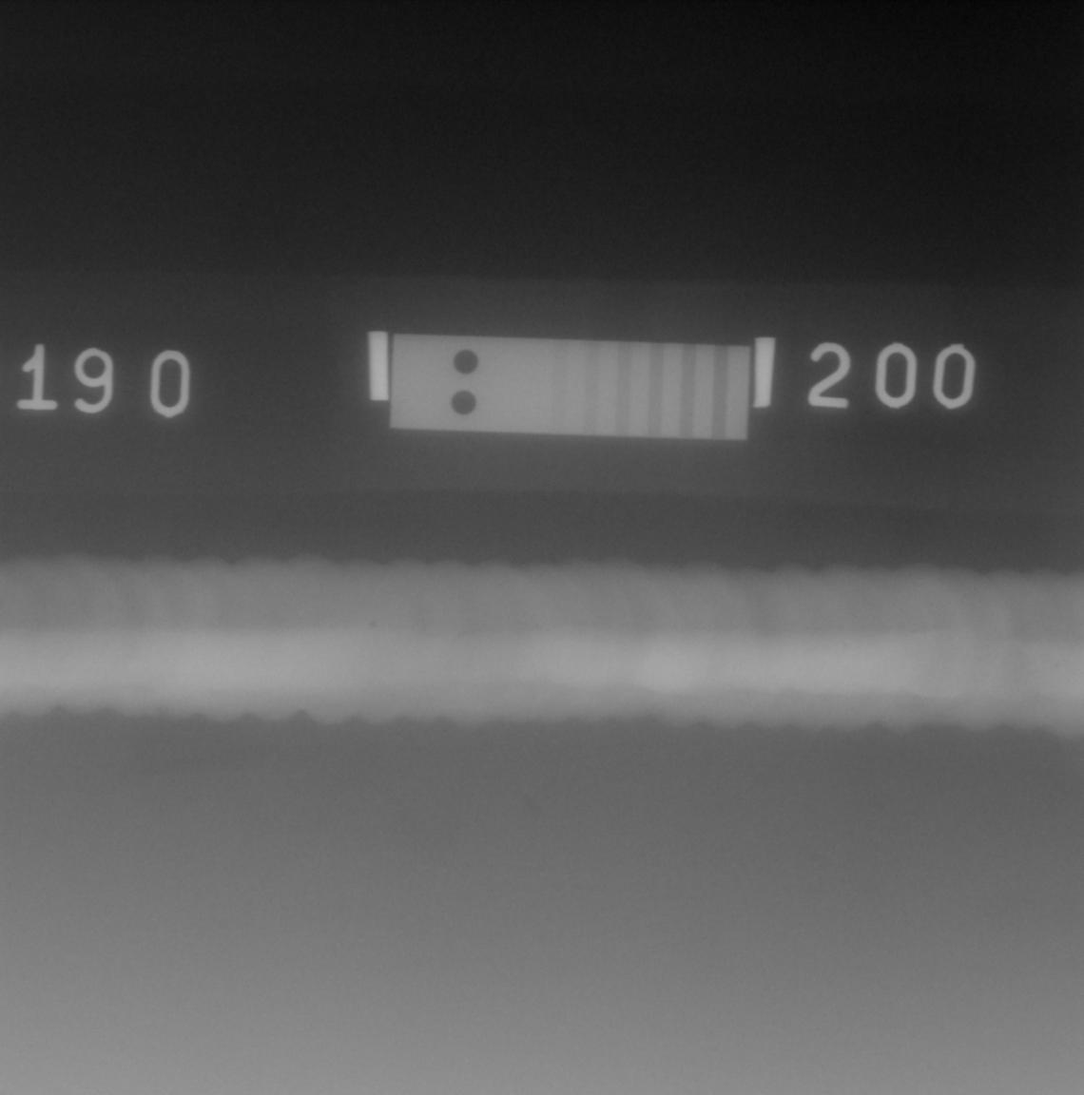Pore/Porosity: (369, 620, 377, 627), (1055, 661, 1060, 669), (536, 623, 540, 629)
Reference Standard 2: (390, 334, 749, 439)
